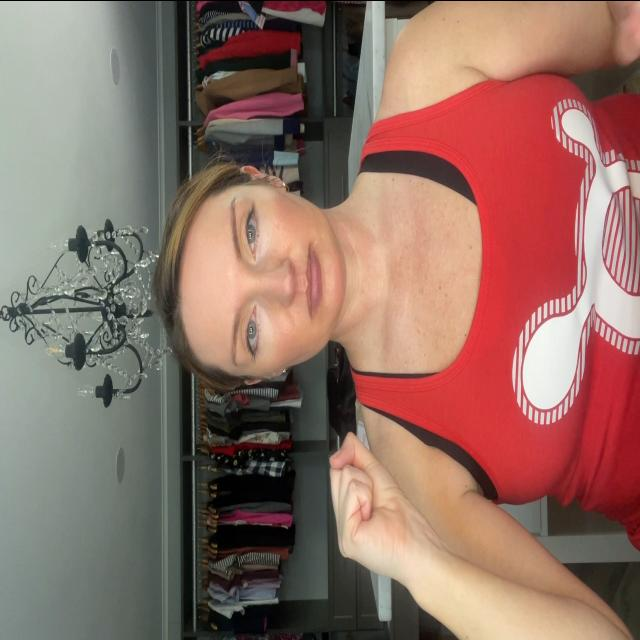Rock: (326, 431, 428, 581)
